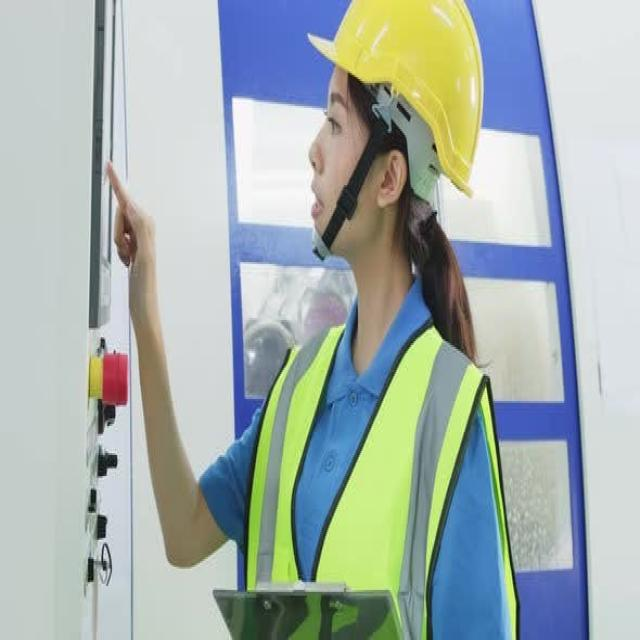helmet: (300, 0, 486, 207)
no-goggles: (304, 82, 409, 166)
vest: (242, 317, 518, 640)
